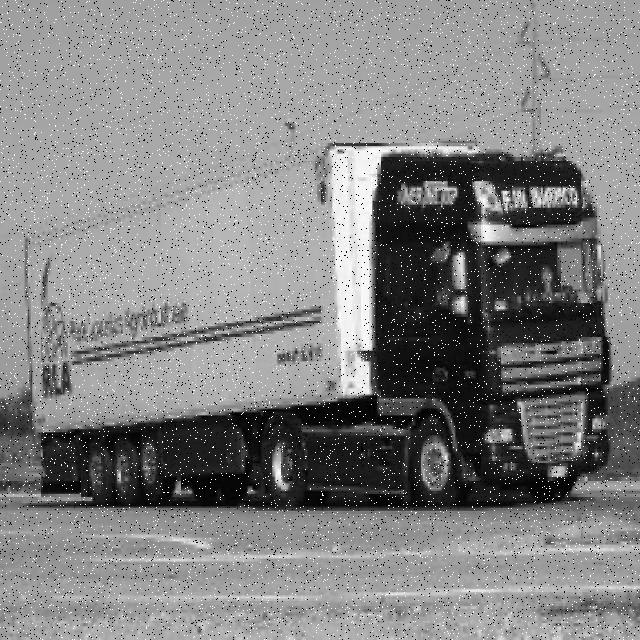Box Truck: (25, 142, 612, 510)
